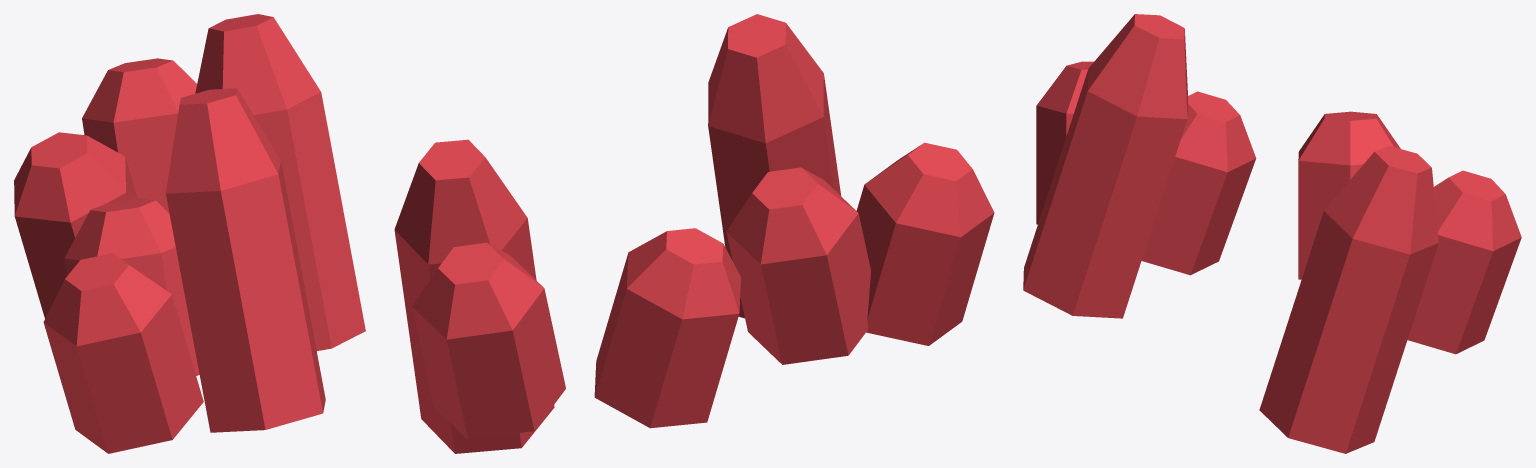
The model's file is Crystalls.fbx.
3 renders of one model, left to right at view 1: azimuth 30°, elevation 25°; view 2: azimuth 150°, elevation 25°; view 3: azimuth 270°, elevation 25°, orthographic. The views are drawn at different scales.
Parts seen in each view (by area): view 1: Crystalls; view 2: Crystalls; view 3: Crystalls.
Boxes of the visible parts, <box> form: Crystalls: <box>14,14,365,453</box>; Crystalls: <box>394,14,994,453</box>; Crystalls: <box>1023,14,1521,453</box>.
Size of the model in its own units: 117 by 103 by 135.
